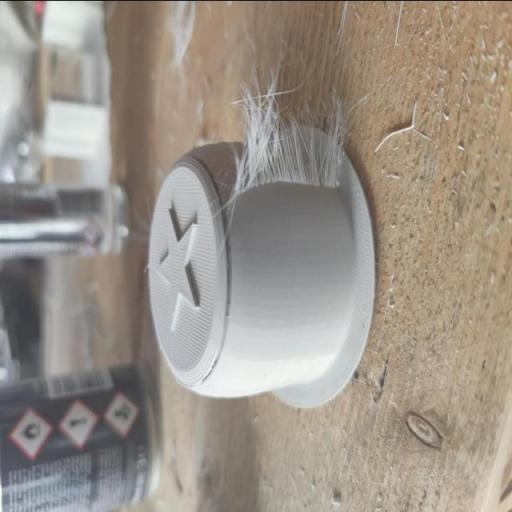stringing: (221, 70, 353, 198)
